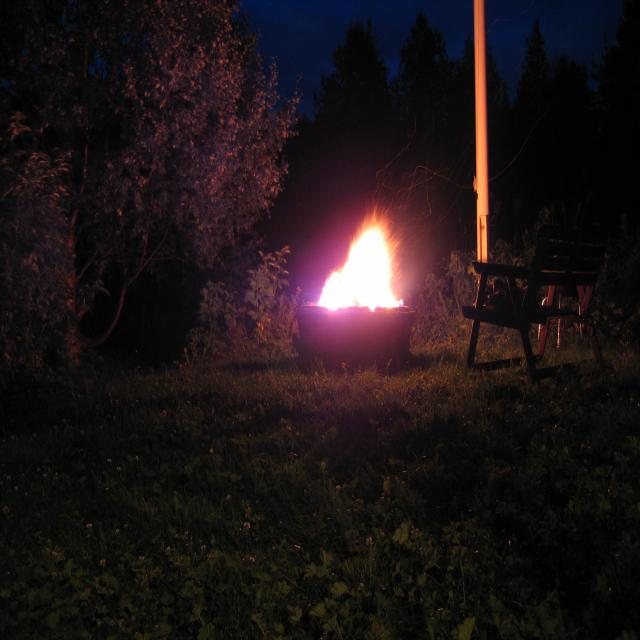chair: (458, 250, 640, 417)
